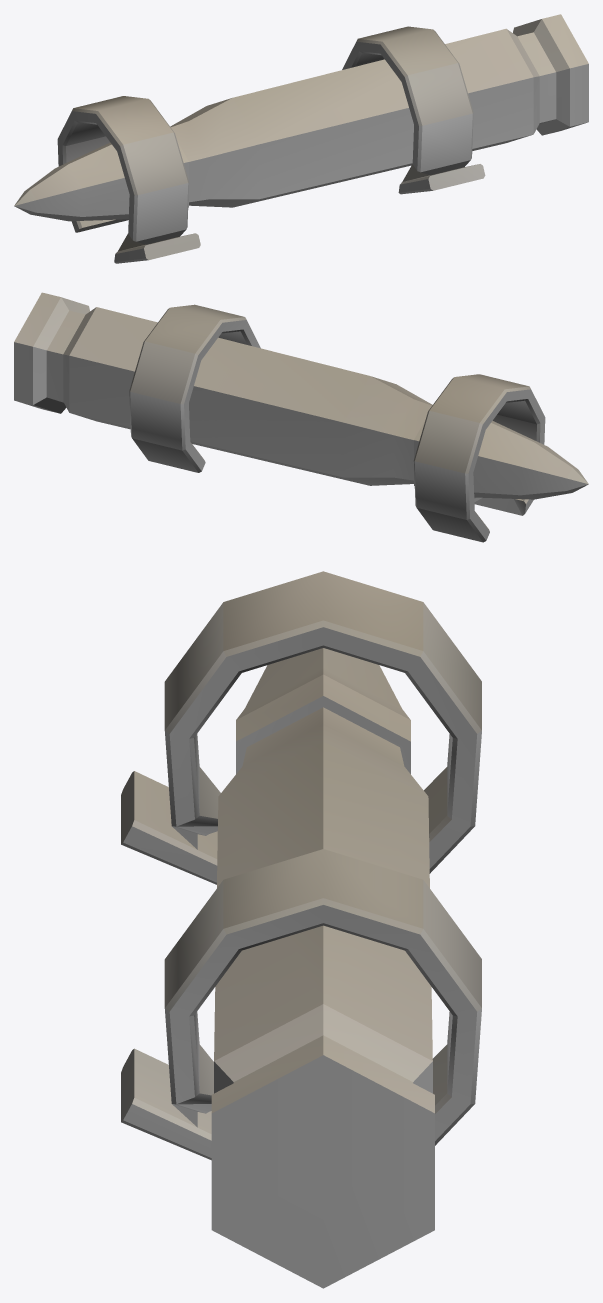
File: ammo-belt-link.glb
3 views of the same model, one above another, from view 1: azimuth 30°, elevation 25°; view 2: azimuth 150°, elevation 25°; view 3: azimuth 270°, elevation 25° (orthographic). The views are drawn at different scales.
Parts seen in each view (by area): view 1: Body; view 2: Body; view 3: Body.
Part boxes in pixels (x1,y1,x2,y2): Body: (14,14,588,263); Body: (14,292,588,542); Body: (121,571,481,1288).
Size of the model in its own units: 0.3 by 0.0732 by 0.0858.
